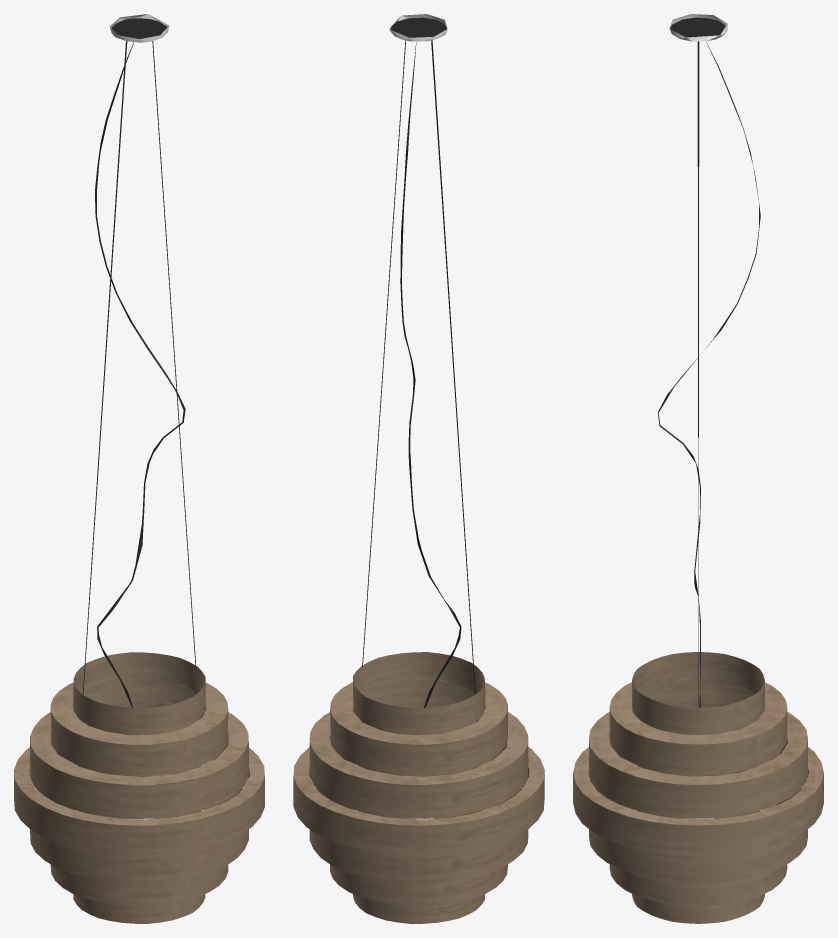
The model's file is LightTop0004.obj.
3 renders of one model, left to right at view 1: azimuth 30°, elevation 25°; view 2: azimuth 150°, elevation 25°; view 3: azimuth 270°, elevation 25°, orthographic.
Bounding box in the file's own units: 0.302 × 1.16 × 0.302.
Materials: 1 (1 with a texture image).
